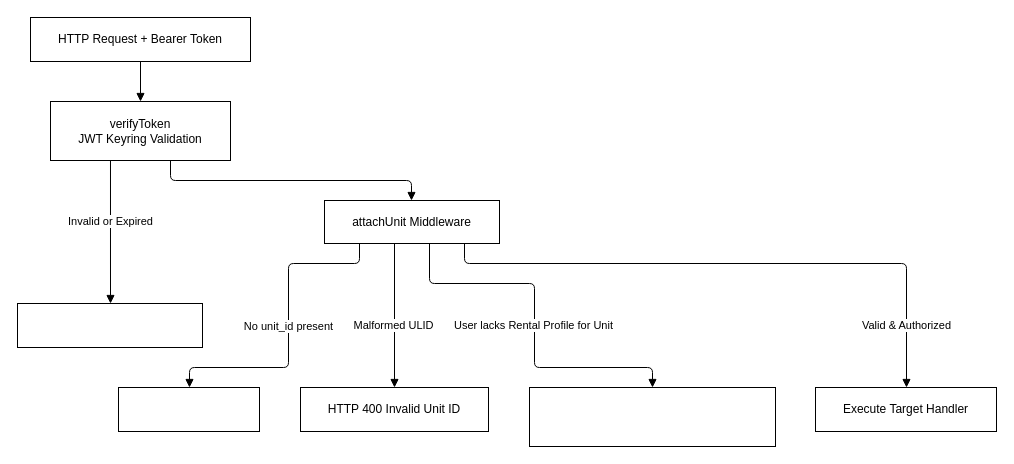
This 1014x464 diagram has some shape labels left out. Each missing label, with the box of its shape:
HTTP 401 Unauthorized: (16, 302, 202, 348)
HTTP 403 Forbidden: Unit Not Assigned: (528, 386, 776, 446)
Pass to Handler: (118, 386, 260, 432)
